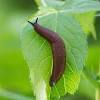slug: (31, 19, 65, 84)
